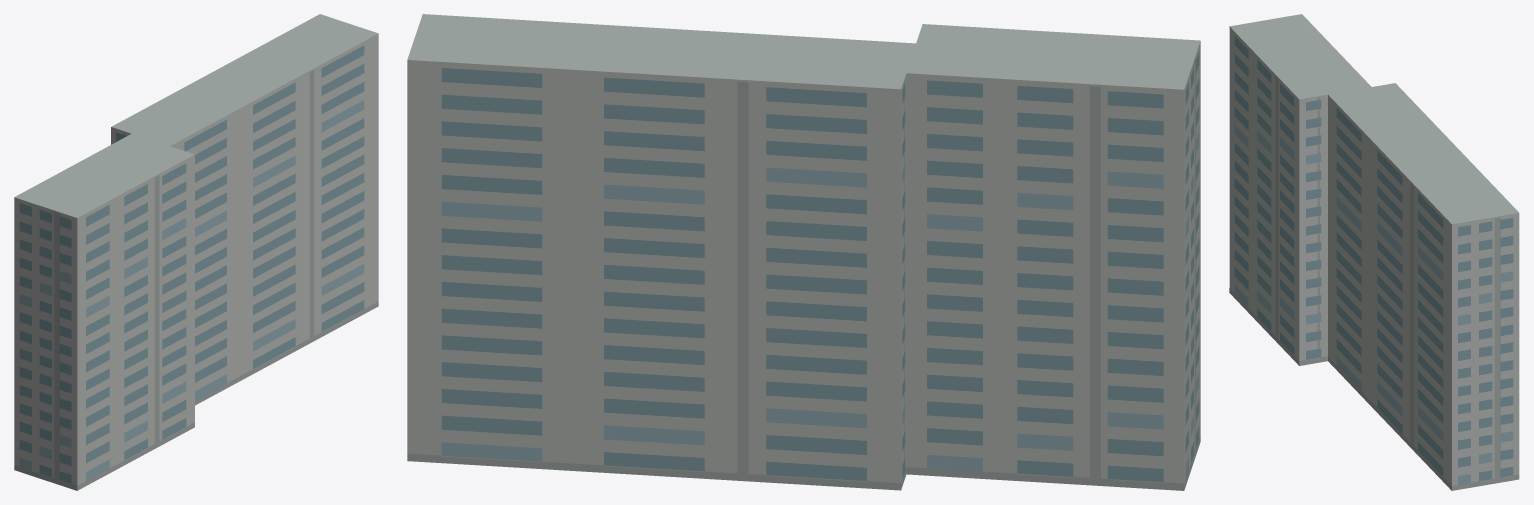
Rendered from residential-15d885f2-5e9b-46b6-bb0f-19b7b7c9cb56.glb.
The picture shows the model from 3 angles, left to right: view 1: azimuth 30°, elevation 25°; view 2: azimuth 150°, elevation 25°; view 3: azimuth 270°, elevation 25°; orthographic projection. The views are drawn at different scales.
Visible parts, largest first — view 1: residential-15d885f2-5e9b-46b6-bb0f-19b7b7c9cb56.tmp; view 2: residential-15d885f2-5e9b-46b6-bb0f-19b7b7c9cb56.tmp; view 3: residential-15d885f2-5e9b-46b6-bb0f-19b7b7c9cb56.tmp.
Part boxes in pixels (bbox=[...]): residential-15d885f2-5e9b-46b6-bb0f-19b7b7c9cb56.tmp: bbox=[14, 14, 378, 490]; residential-15d885f2-5e9b-46b6-bb0f-19b7b7c9cb56.tmp: bbox=[407, 14, 1200, 490]; residential-15d885f2-5e9b-46b6-bb0f-19b7b7c9cb56.tmp: bbox=[1229, 14, 1519, 490].
Bounding box in the file's own units: 77.43 × 45.75 × 45.11.
